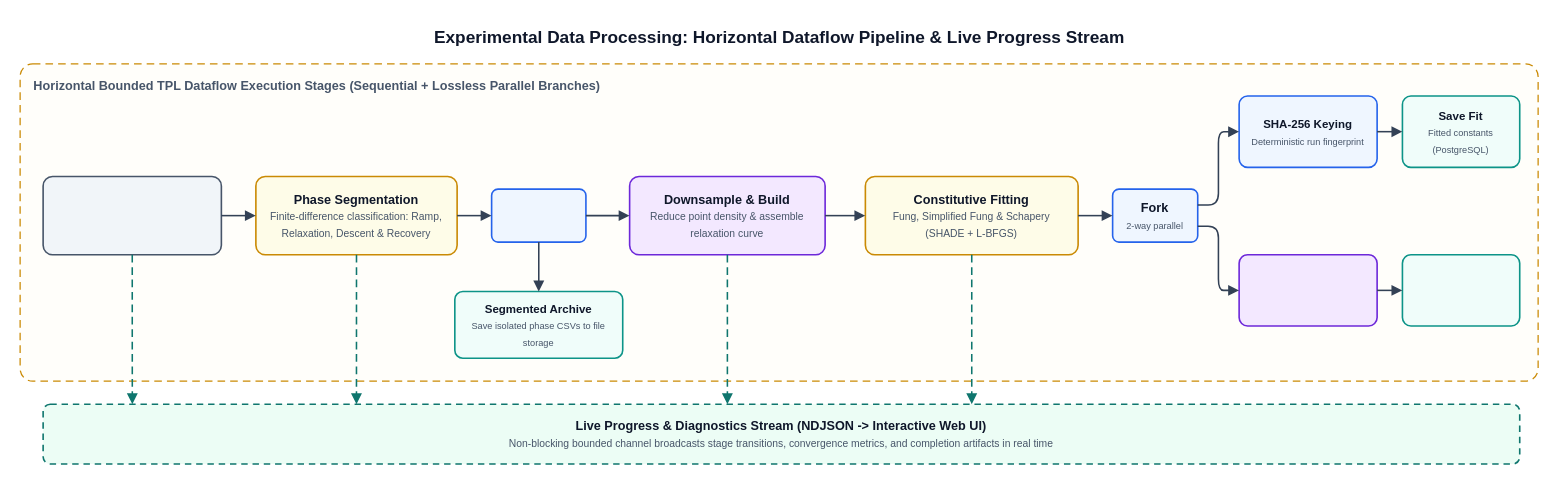
The diagram is 1559 pixels wide and 484 high, and some of its shapes have lost their labels. Here are the shapes that lost their labels. From the top down, the centre of each, then its label:
(132,215): Input & Dispatch Paired CSV / sample load; non-blocking background run
(538,215): Broadcast Lossless split
(1307,289): Forward Replay Simulate full stress history
(1460,289): Save Curve Predicted curves (PostgreSQL)
